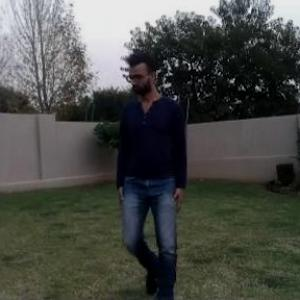follow: (113, 29, 192, 299)
